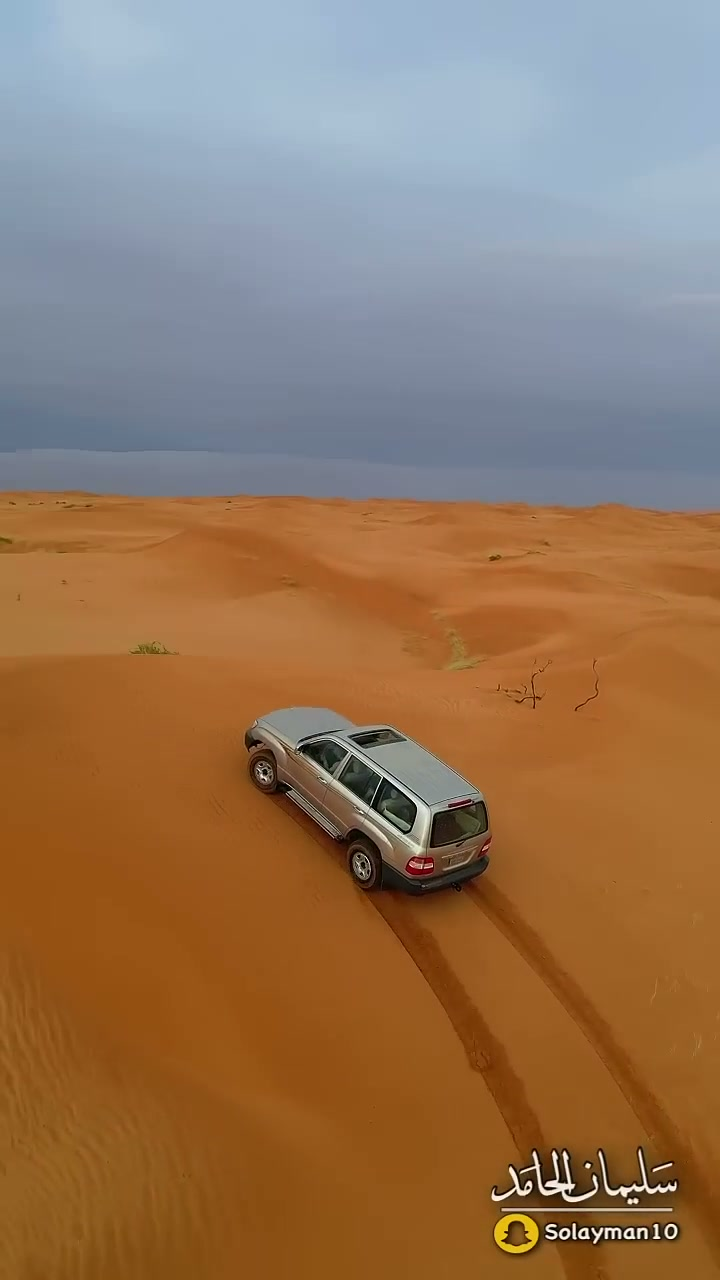vehicle_track: (463, 878, 719, 1267), (465, 883, 719, 1266), (365, 892, 548, 1155), (370, 894, 548, 1153)
